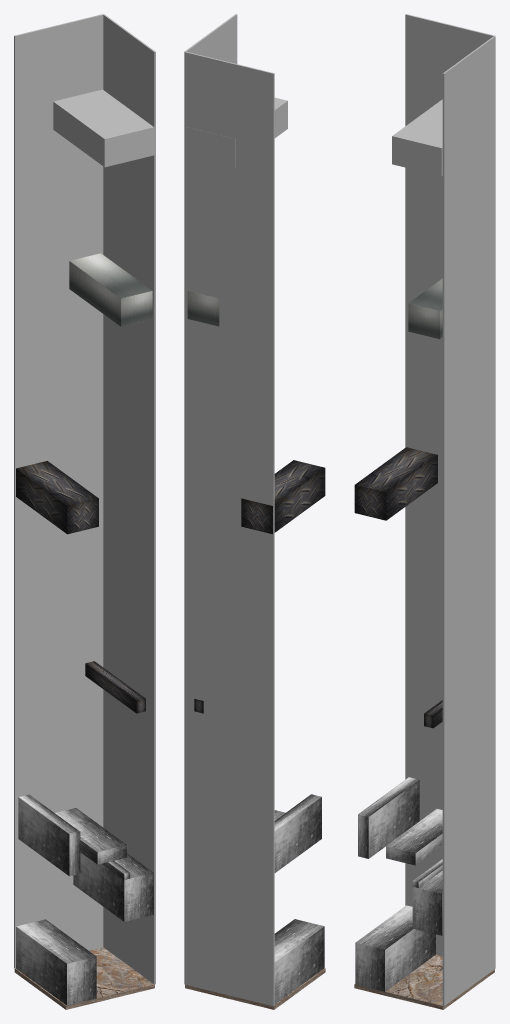
Rendered from stage_oreore.FBX.
3 views of the same model, side by side, from view 1: azimuth 30°, elevation 25°; view 2: azimuth 150°, elevation 25°; view 3: azimuth 330°, elevation 25° (orthographic).
Visible parts, largest first — view 1: Box003, Box002, Box012, Box004, Box011, Box010, Box005, Box008, Box001, Box007, Box009; view 2: Box003, Box010, Box004, Box008, Box002, Box012, Box011, Box001; view 3: Box002, Box003, Box004, Box010, Box008, Box012, Box001, Box007, Box005, Box011, Box009, Box006.
Boxes of the visible parts, x1,y1,x2,y2 form: Box003: (14, 14, 103, 968); Box002: (103, 14, 155, 984); Box012: (53, 89, 154, 167); Box004: (16, 919, 96, 1005); Box011: (69, 253, 152, 326); Box010: (16, 461, 98, 534); Box005: (73, 852, 153, 921); Box008: (18, 794, 80, 876); Box001: (14, 947, 154, 1009); Box007: (55, 808, 127, 864); Box009: (85, 661, 145, 713); Box003: (184, 51, 274, 1006); Box010: (241, 460, 325, 534); Box004: (274, 919, 324, 1004); Box008: (274, 794, 321, 872); Box002: (184, 14, 237, 983); Box012: (186, 97, 287, 167); Box011: (187, 291, 219, 326); Box001: (185, 968, 325, 1009); Box002: (442, 36, 495, 1005); Box003: (405, 14, 494, 955); Box004: (355, 905, 435, 991); Box010: (354, 447, 437, 520); Box008: (358, 777, 419, 858); Box012: (392, 99, 442, 176); Box001: (354, 954, 494, 1009); Box007: (386, 809, 442, 865); Box005: (412, 871, 442, 935); Box011: (408, 278, 442, 339); Box009: (424, 700, 442, 728); Box006: (412, 859, 442, 887).
Size of the model in its own units: 1210 by 1223 by 12050.
